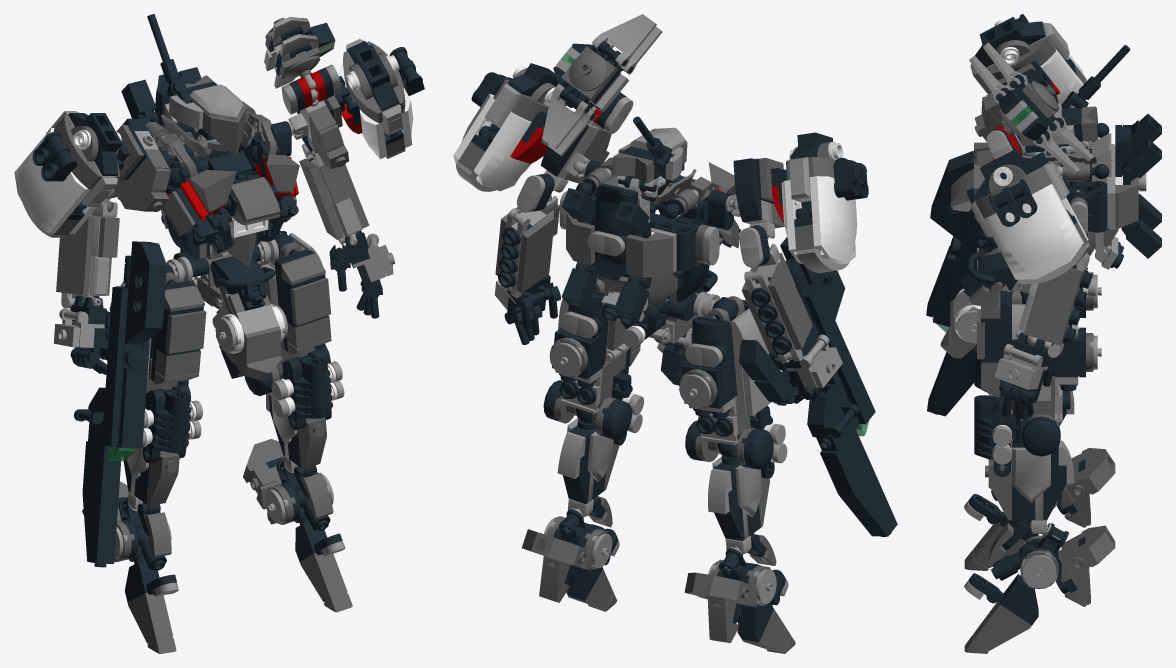
Rendered from refx-tn-21-kitsune.dae.
The picture shows the model from 3 angles, left to right: view 1: azimuth 30°, elevation 25°; view 2: azimuth 150°, elevation 25°; view 3: azimuth 270°, elevation 25°; orthographic projection. The views are drawn at different scales.
Size of the model in its own units: 440 by 242 by 664.
